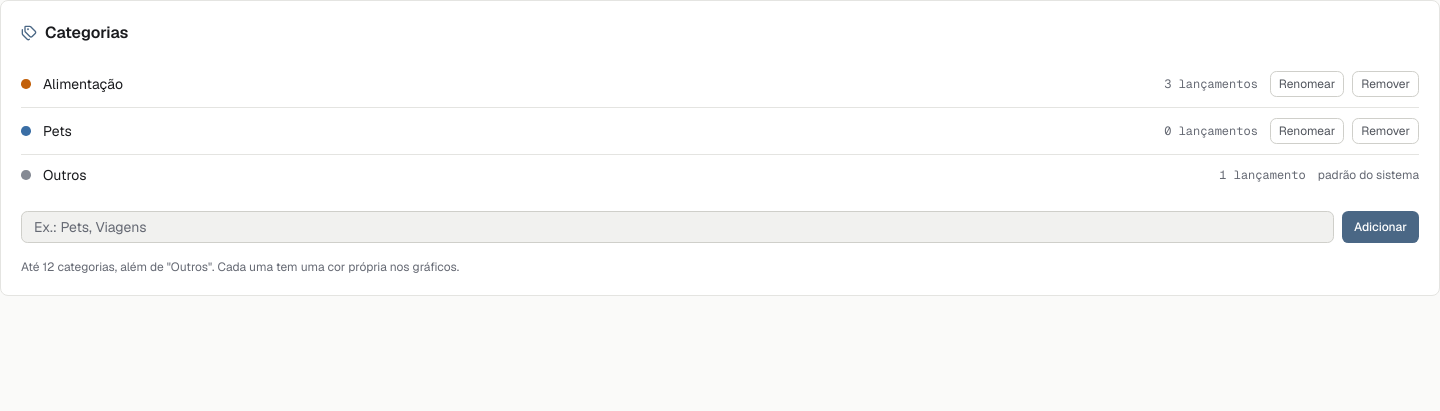
it: CategoriasSection — remover › categoria sem lançamentos não pede destino
The image size is (1440, 411).
Step 1. Click the button with aria-label "Remover Pets" → (1386, 131), box x1=1352 y1=118 x2=1419 y2=144
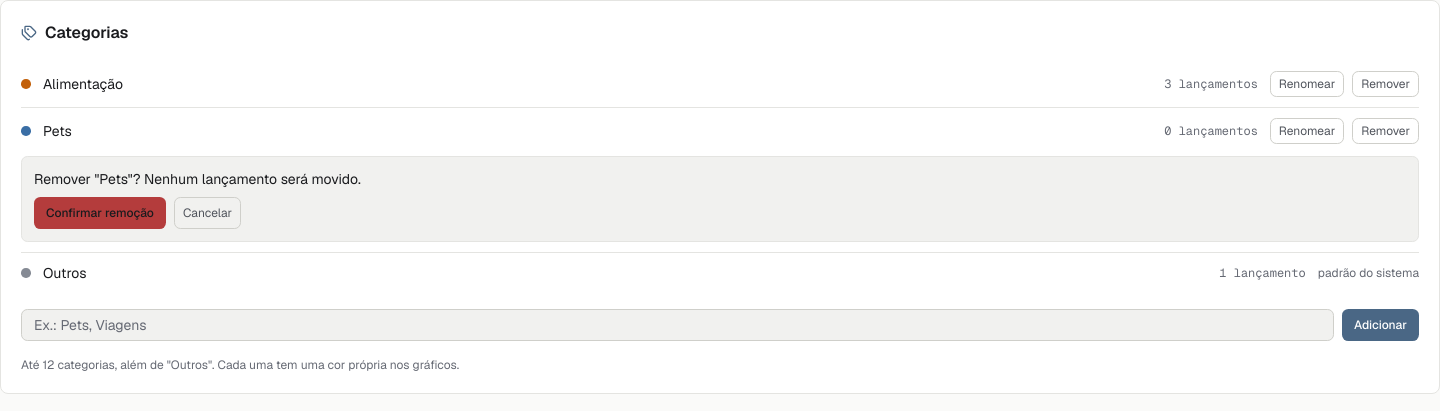
Result: the text "Remover \"Pets\"? Nenhum lançamento será movido." is shown at x1=34 y1=170 x2=361 y2=188
